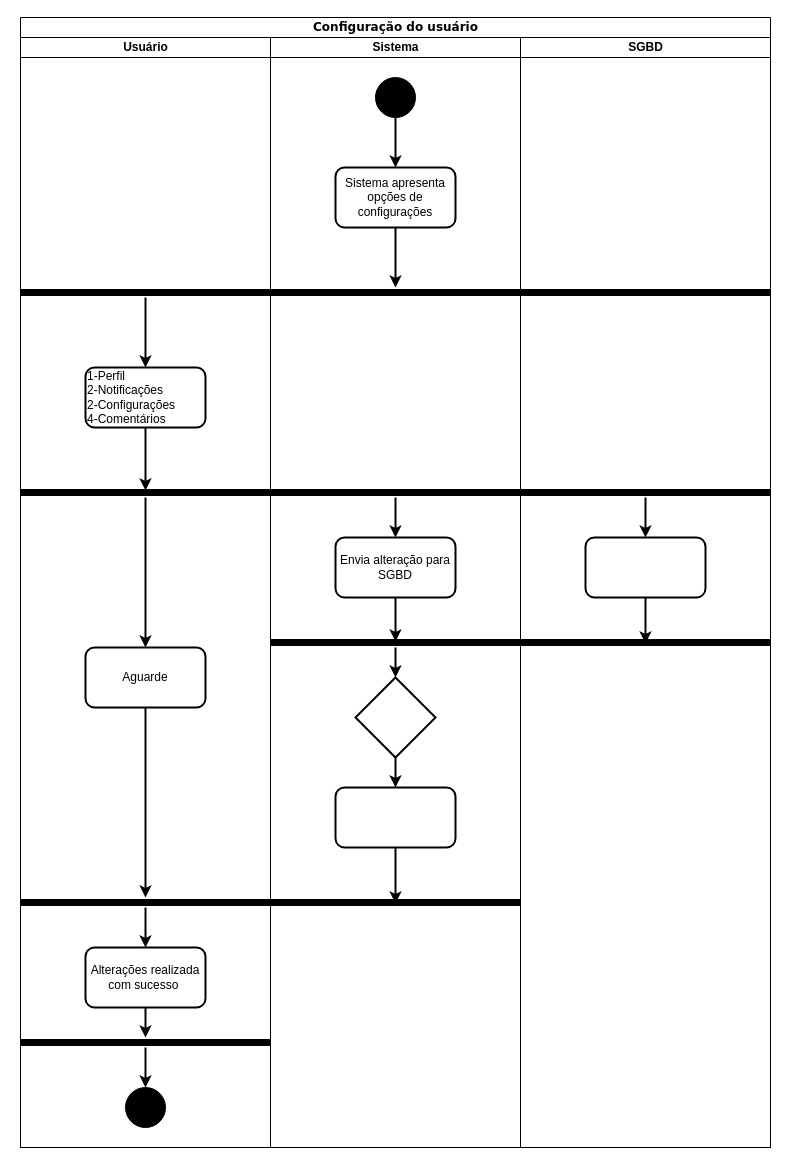
Some shapes in this 791 by 1165 pixel diagram are drawn without their labels. Each missing label, with the centre of its shape:
"Alterado" belongs at point (395, 717).
"Returno = true Devolve status para usuário" belongs at point (395, 817).
"Salva /Edita /Deleta" belongs at point (645, 567).
